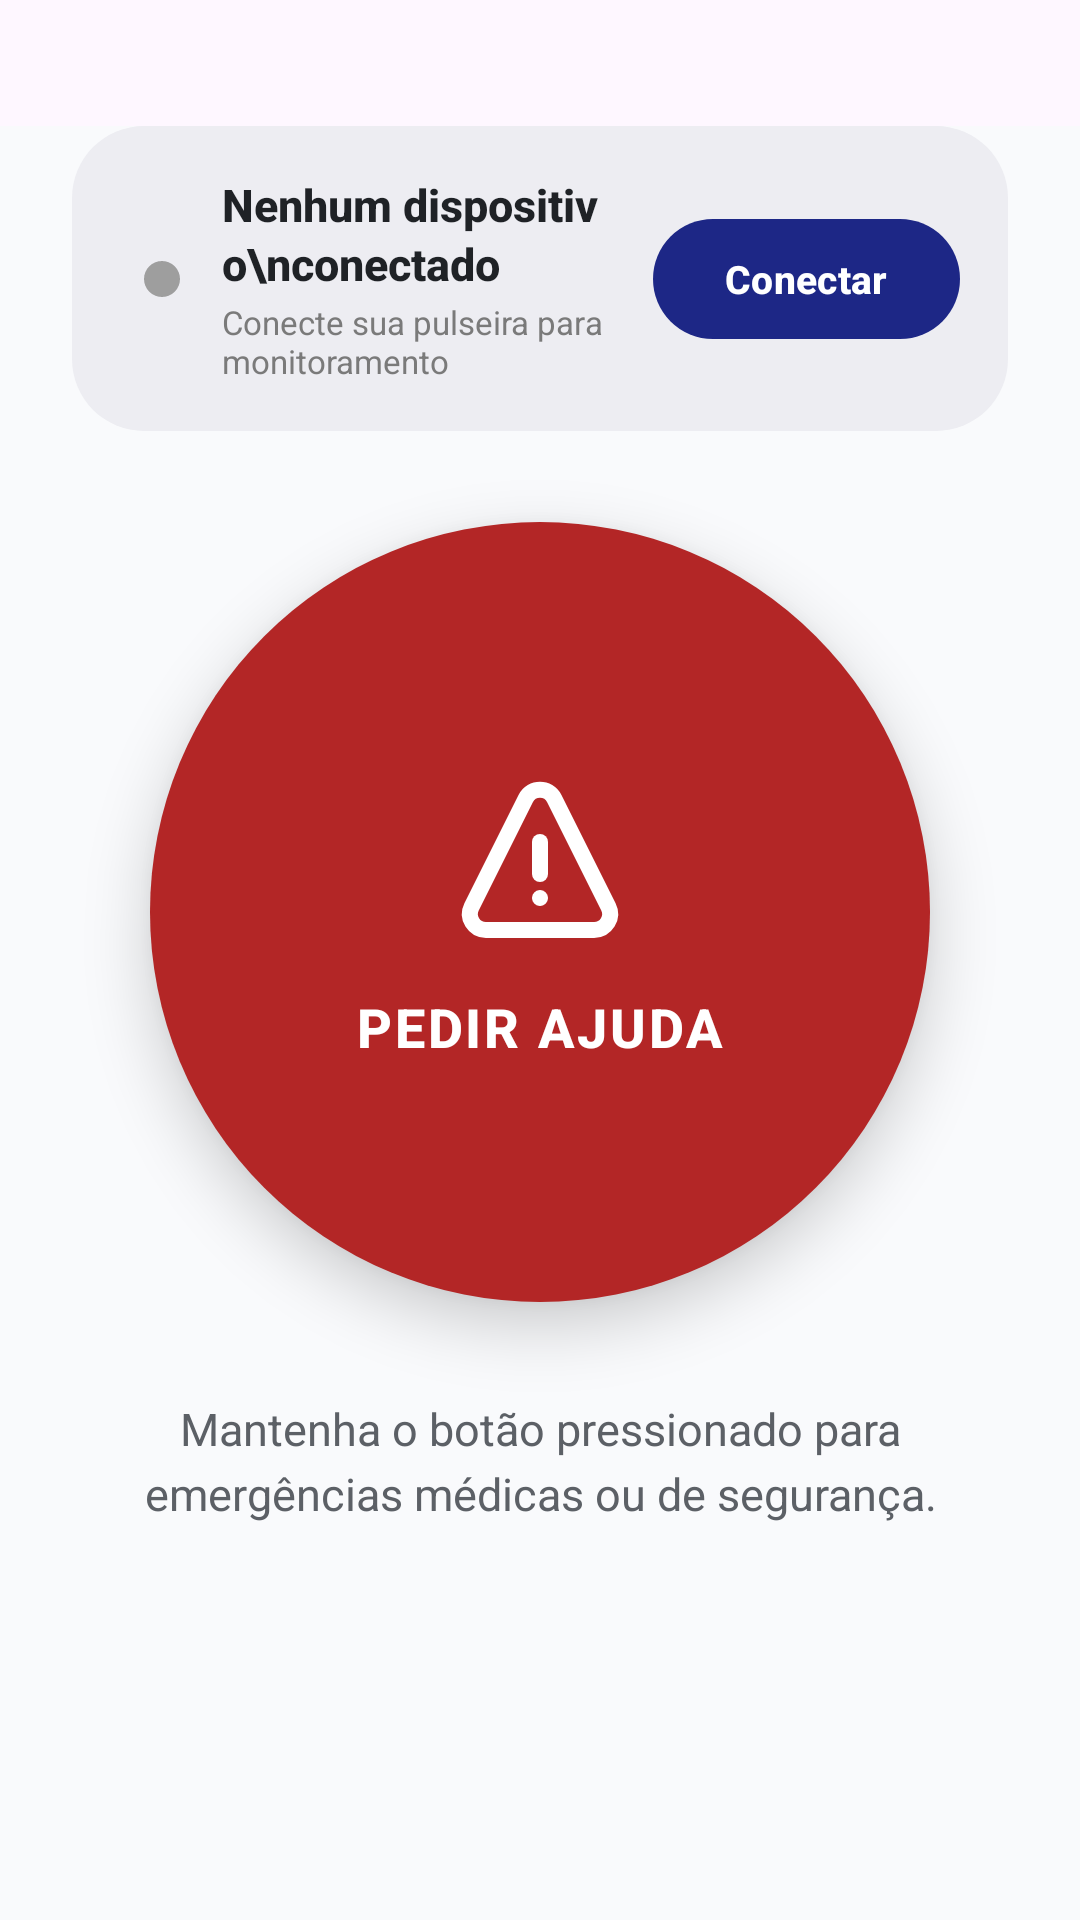

Point at icon controls on the screen. Image size 1080px×1920px, points as (x=x, y=y).
warnning: (x=540, y=859)
